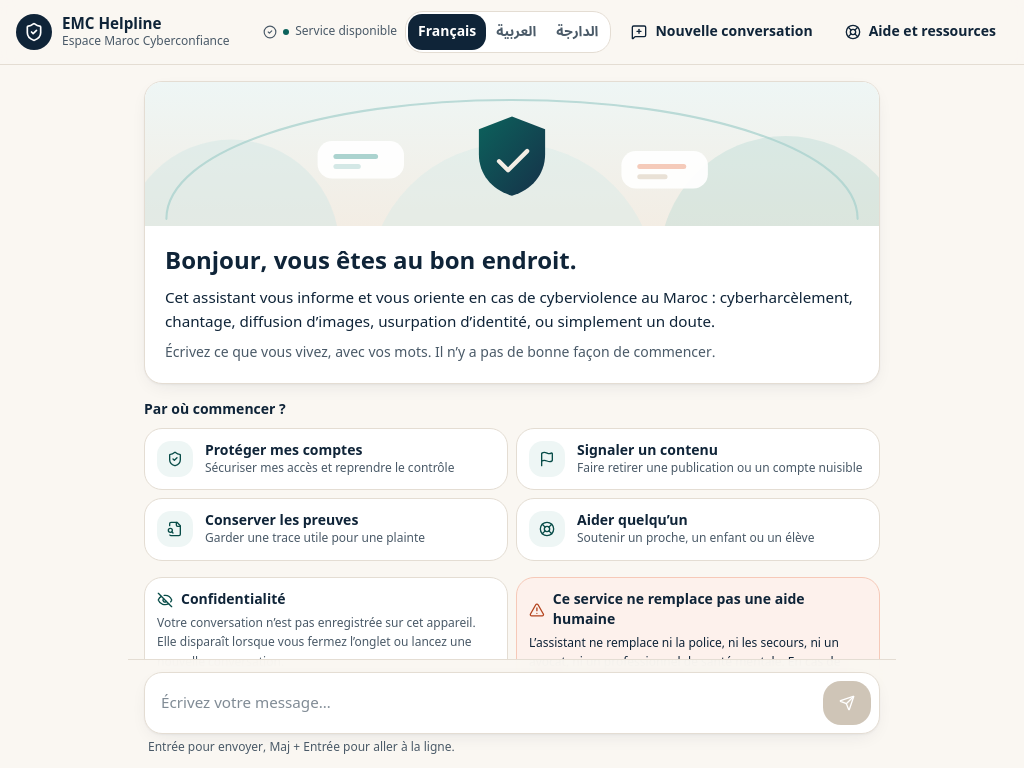
sending a message › sends a French message and renders the answer with its sources
The width and height of the screenshot is (1024, 768).
Step 1. Type "Je suis victime de cyberharcèlement" into the text box labelled "votre message" → {"x": 484, "y": 703}, box [153,681,815,725]
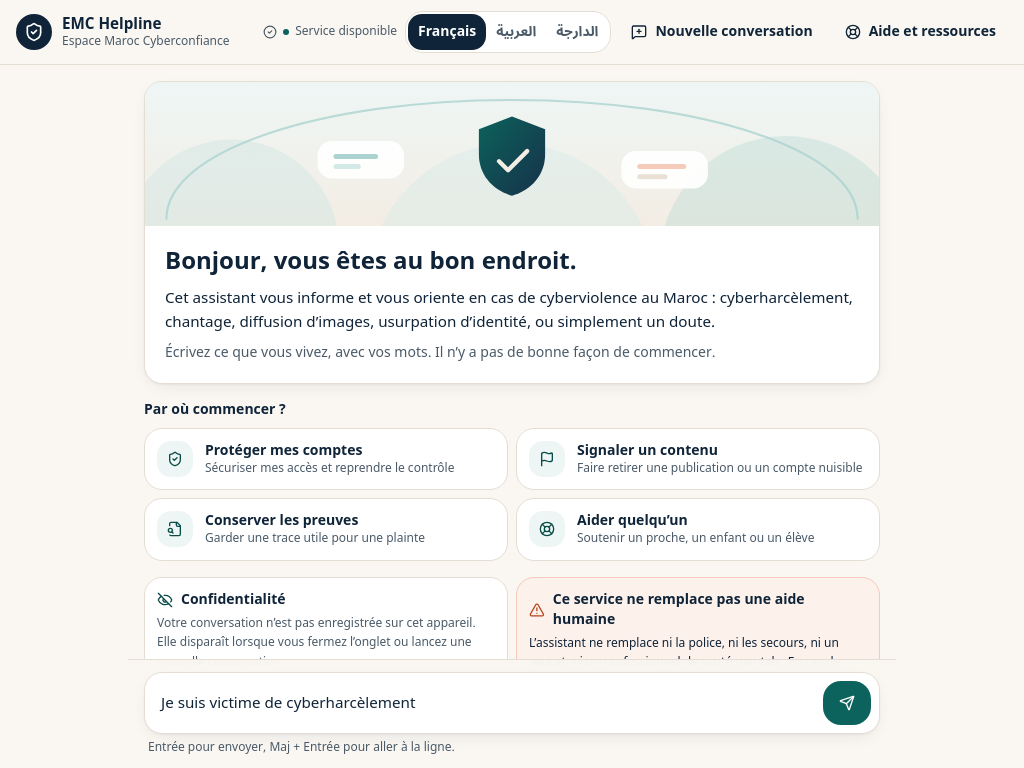
Step 2. Click the button named "Envoyer le message" → {"x": 847, "y": 703}, box [823,681,871,725]
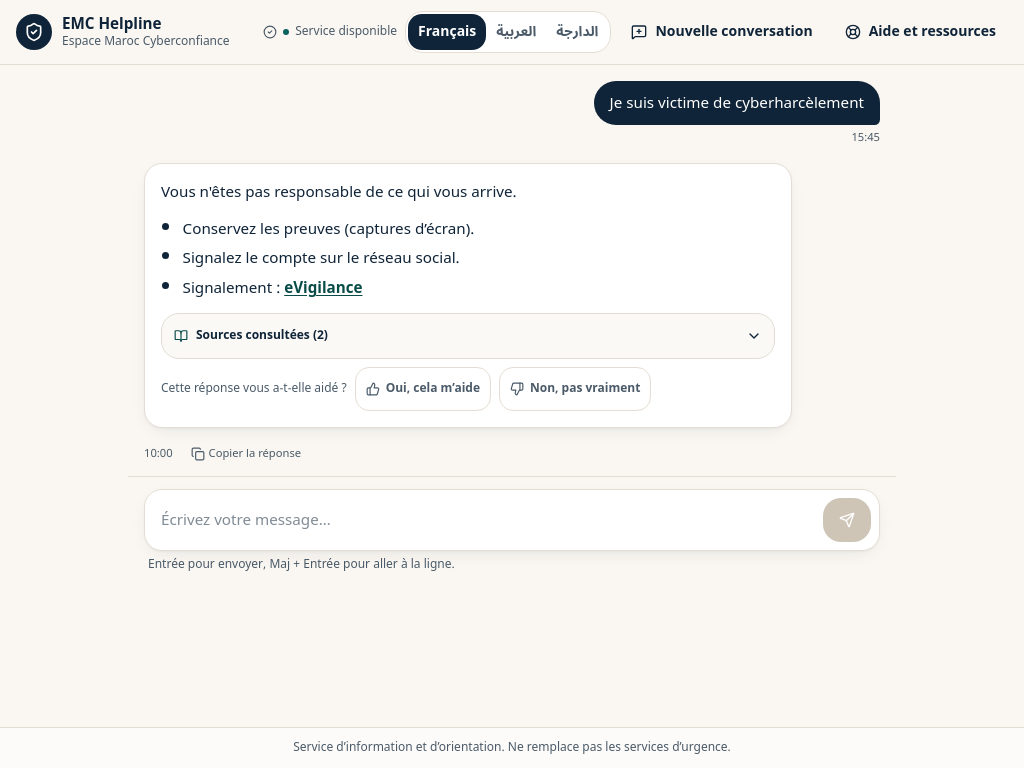
Expected: the text "Je suis victime de cyberharcèlement" is shown, [610,91,864,115]
Expected: the text "Vous n'êtes pas responsable de ce qui vous arrive." is shown, [161,176,517,208]
Expected: the text box labelled "votre message" is empty, [153,498,815,542]
